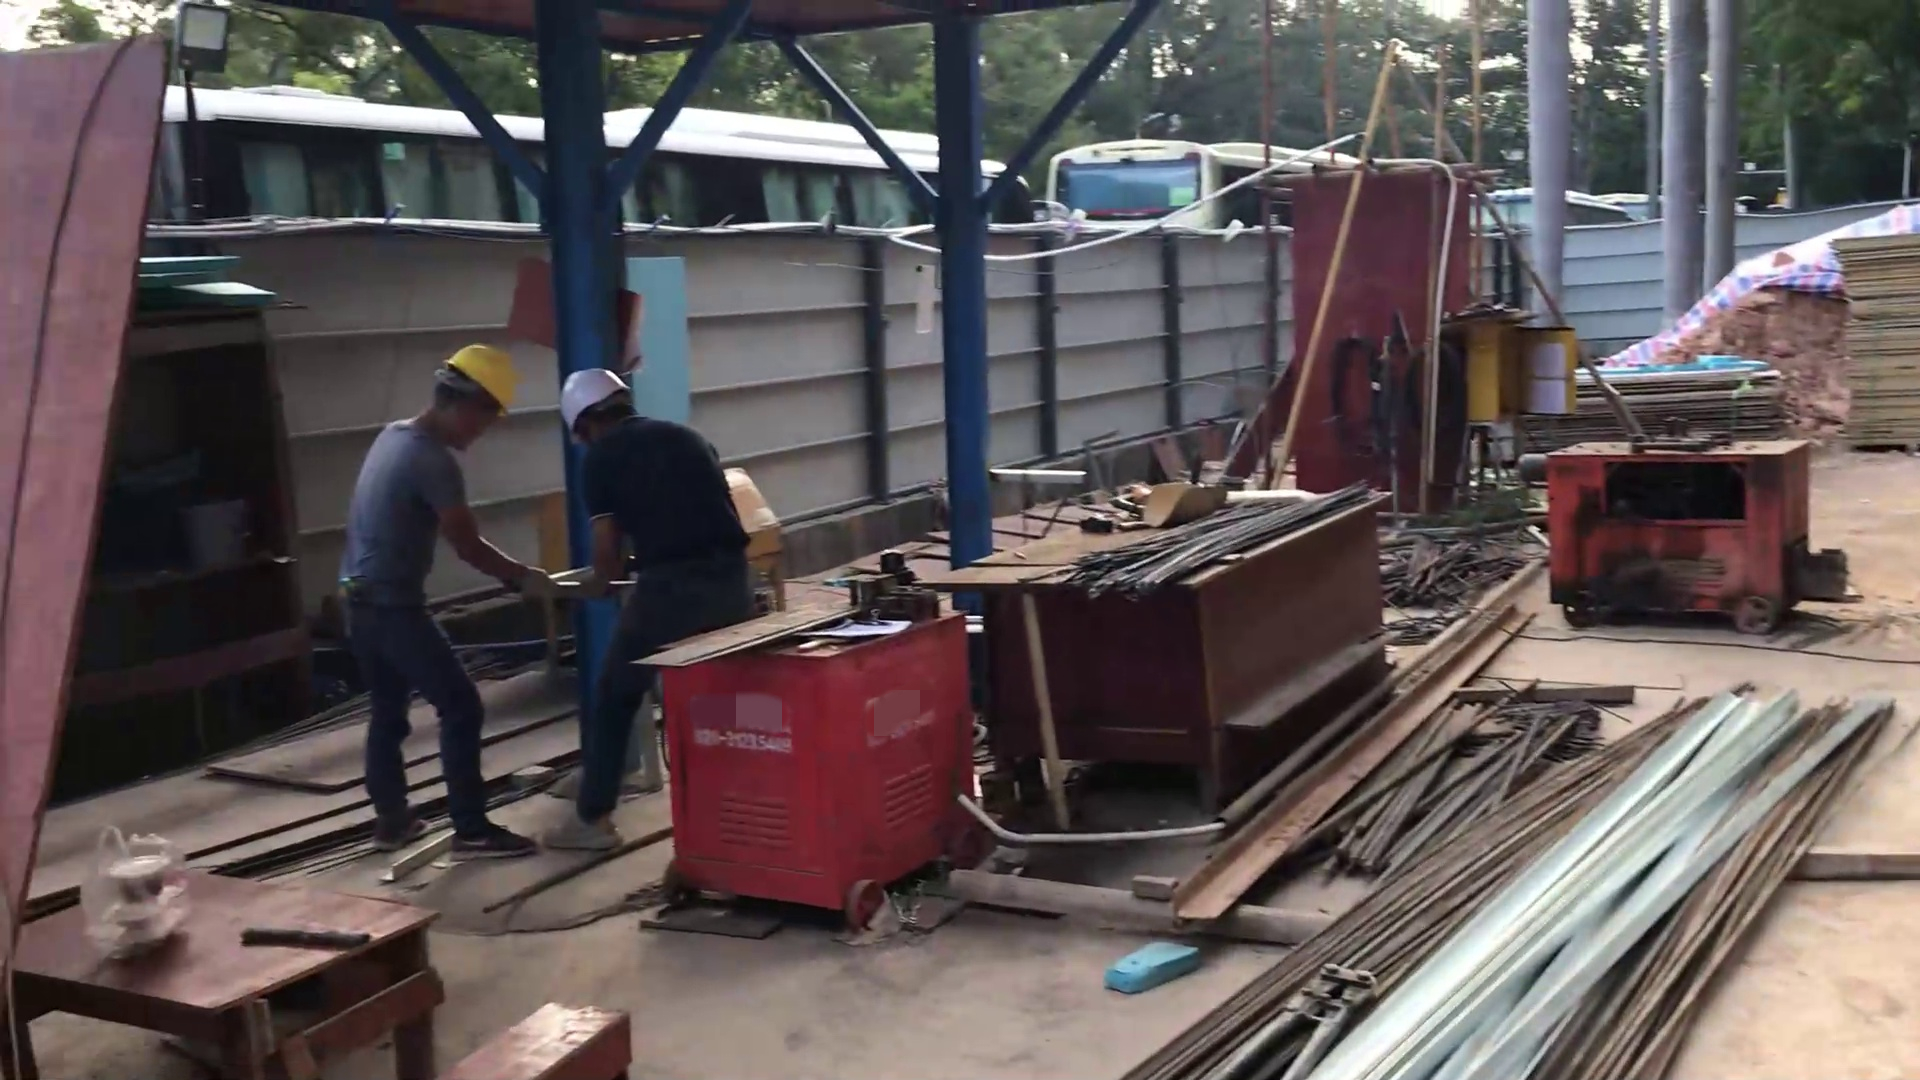board: (1819, 224, 1920, 455)
ebox: (1453, 297, 1572, 519)
helmet: (443, 331, 522, 424), (550, 364, 643, 431)
person: (329, 333, 567, 876), (543, 350, 784, 864)
